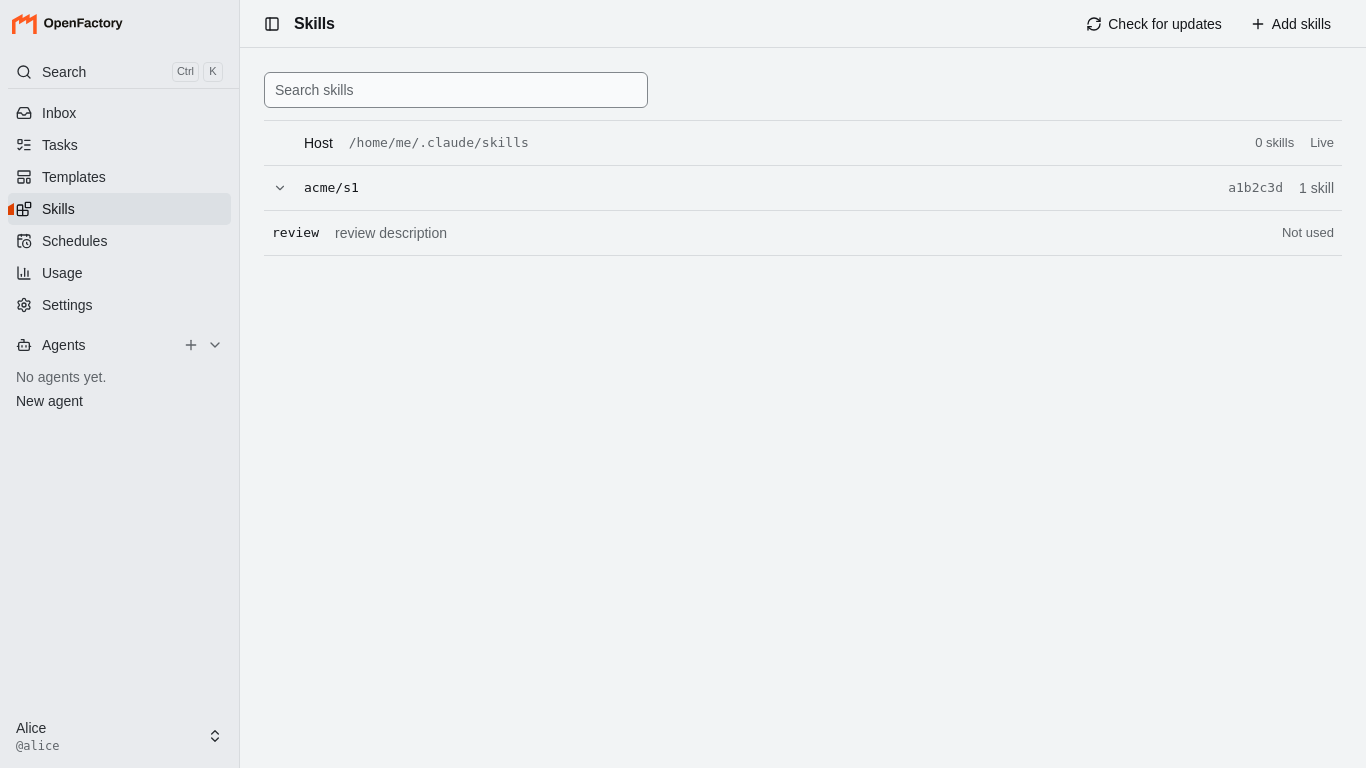
Test: a hook matcher with a bidi override shows the token, as code
Step 1. Click the button "review review description Not used" → coordinates (295, 232), box [264, 211, 1342, 255]
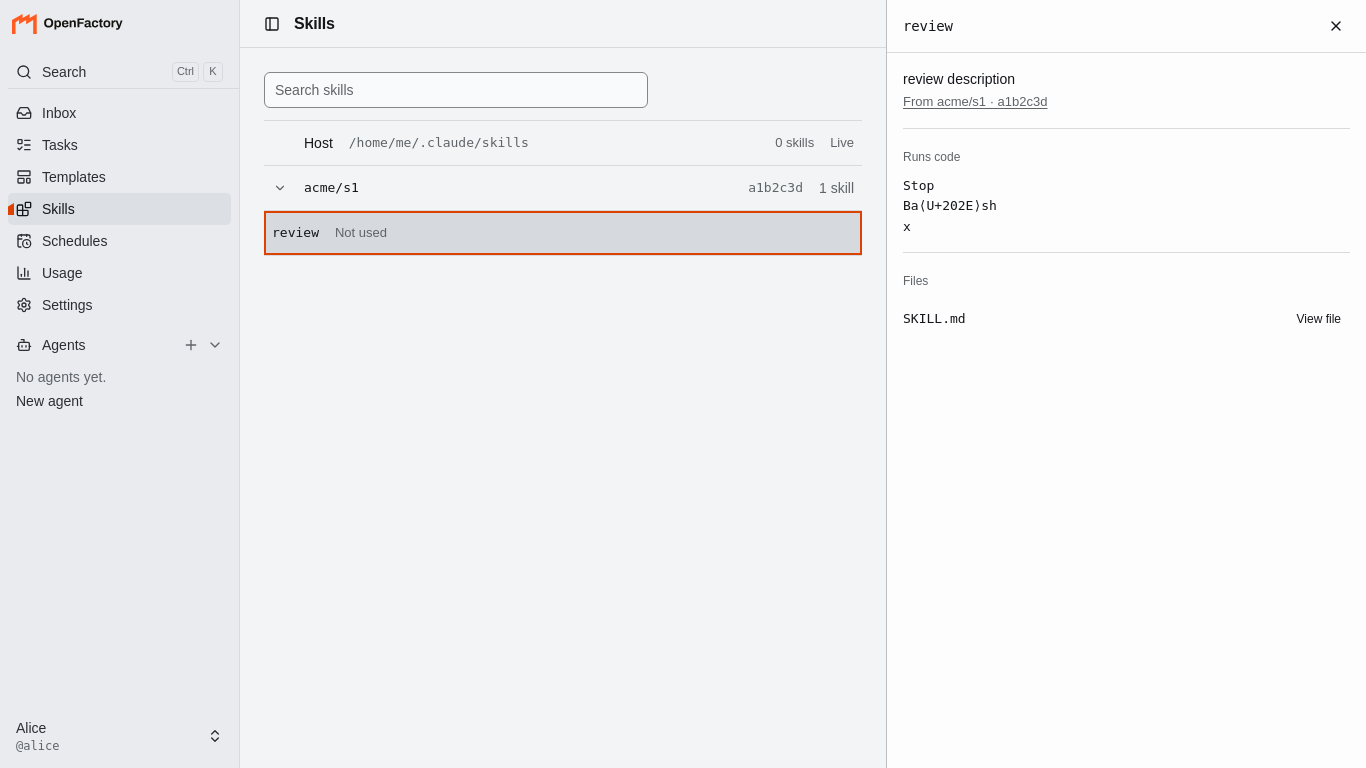
Now the heading named "review" is shown, box [902, 17, 953, 34]
